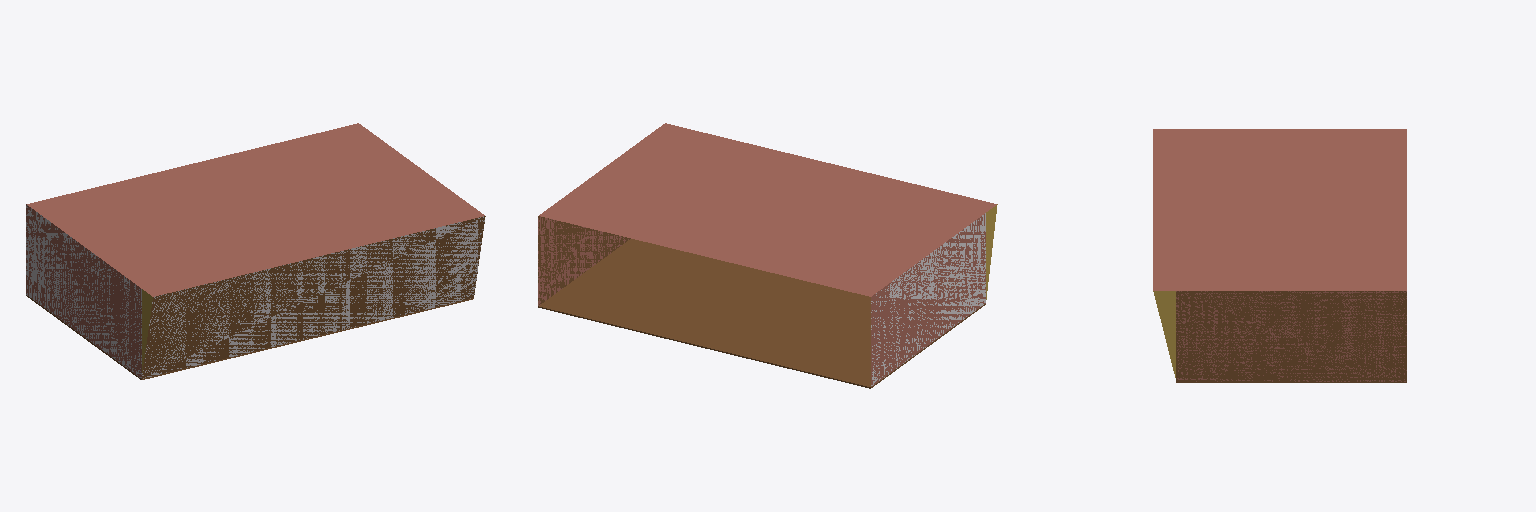
Rendered from vystavna_miestnost.obj.
3 views of the same model, side by side, from view 1: azimuth 30°, elevation 25°; view 2: azimuth 150°, elevation 25°; view 3: azimuth 270°, elevation 25° (orthographic).
Parts seen in each view (by area): view 1: Mesh2 Model, Mesh1 podlaha_hl_budova1 Model; view 2: Mesh2 Model, Mesh1 podlaha_hl_budova1 Model; view 3: Mesh2 Model.
Part boxes in pixels (left/top/right/bottom): Mesh2 Model: left=26, top=123, right=485, bottom=378; Mesh1 podlaha_hl_budova1 Model: left=26, top=295, right=473, bottom=379; Mesh2 Model: left=538, top=123, right=997, bottom=386; Mesh1 podlaha_hl_budova1 Model: left=538, top=239, right=985, bottom=388; Mesh2 Model: left=1153, top=129, right=1406, bottom=381.
Bounding box in the file's own units: 25 × 6.6 × 16.5.